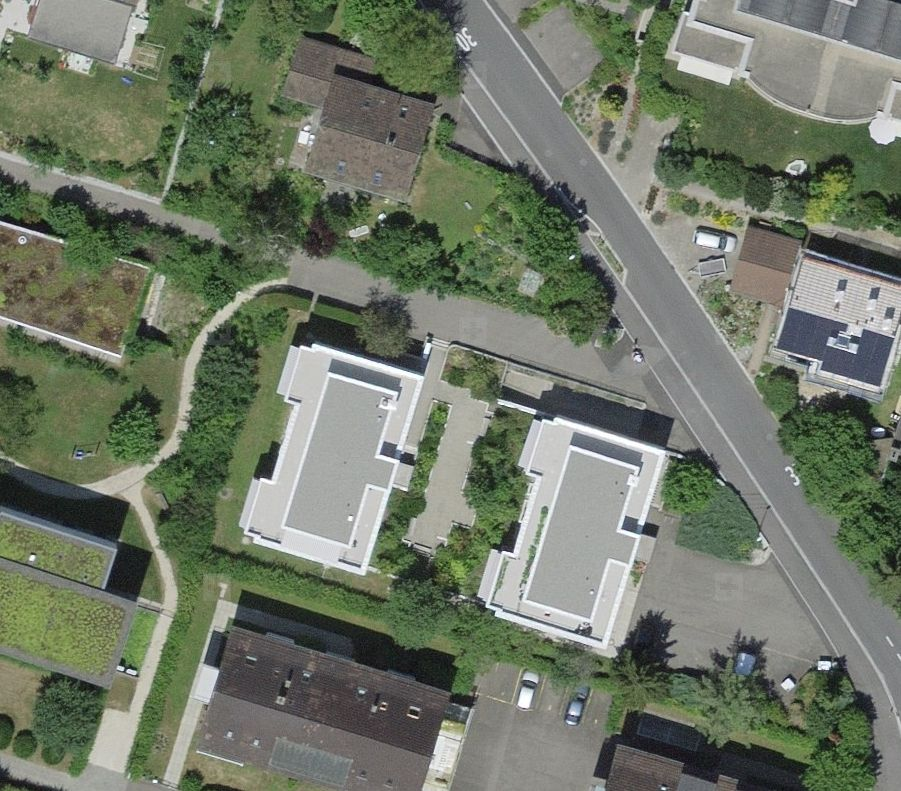solar: (773, 305, 893, 390)
